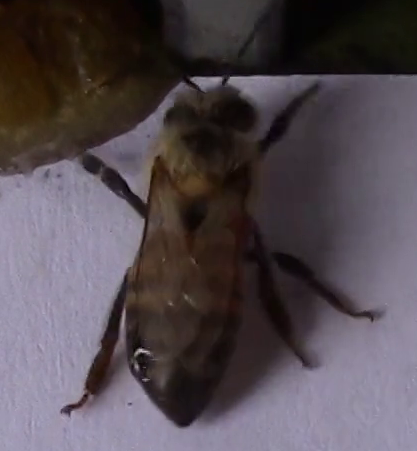Varroa destructor: (231, 212, 253, 245)
